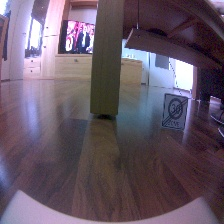dreisiger_zone_ende: (160, 94, 188, 131)
